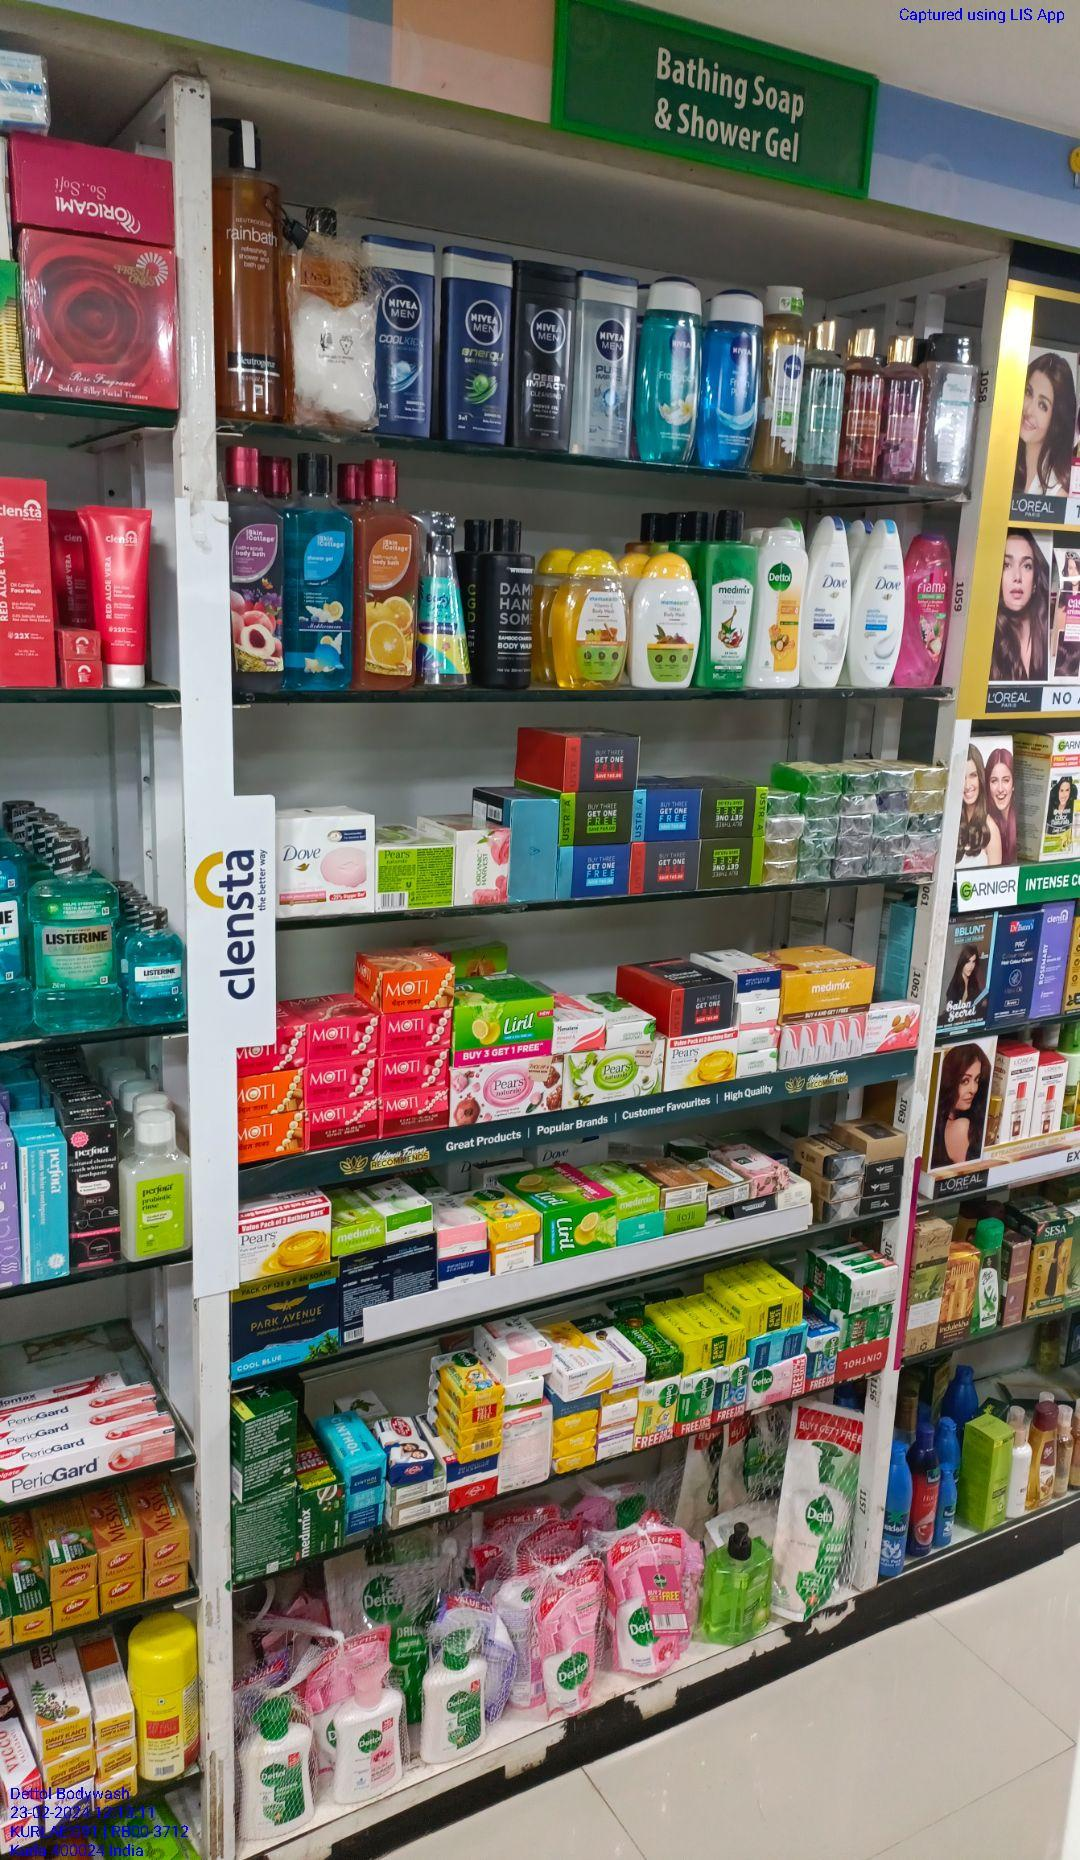Dettol_Nourish_Body_Wash_250ML: (760, 526, 802, 688)
Dove_Deep_Moisture_Body_Wash_250ML: (806, 513, 847, 688)
Dove_Gentle_Exfoliating_Body_Wash_250ML: (850, 518, 904, 688)
Fiama_Shower_Gel_Patchouli_and_Macadamia_250ML: (901, 532, 946, 685)
Nivea_Shower_Gel_Frangipani_and_Oil_250ML: (638, 275, 701, 464)
